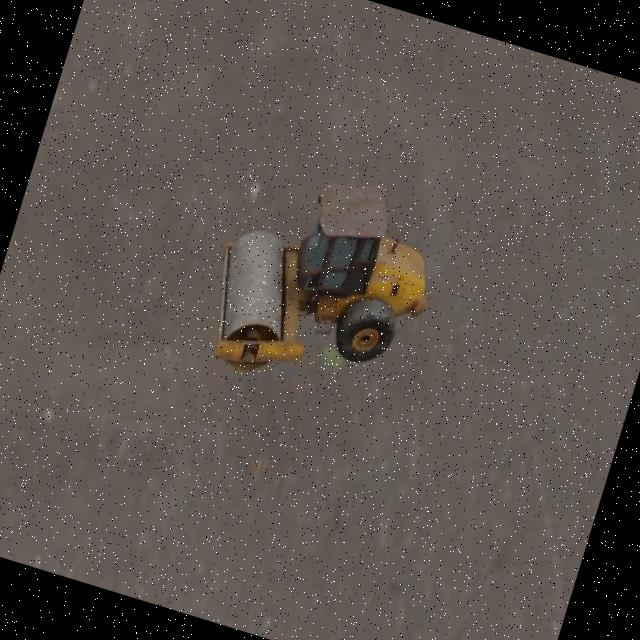Roller: (190, 146, 455, 417)
